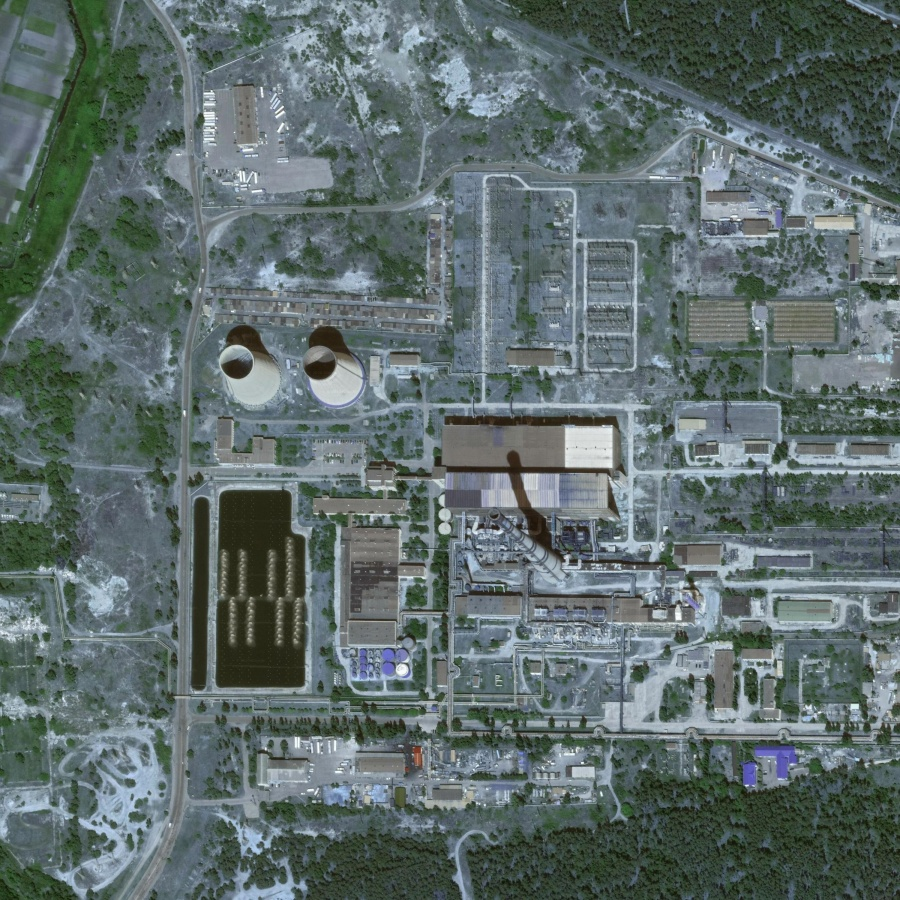PowerPlant: (180, 302, 633, 702)
